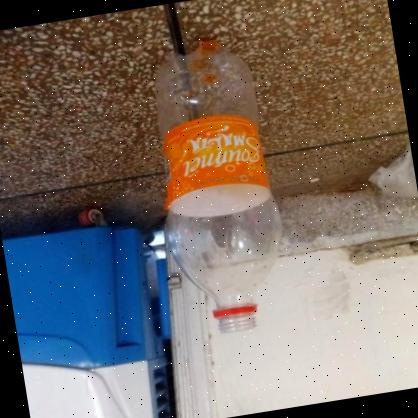bottle: (136, 34, 306, 352)
label: (148, 107, 290, 229)
